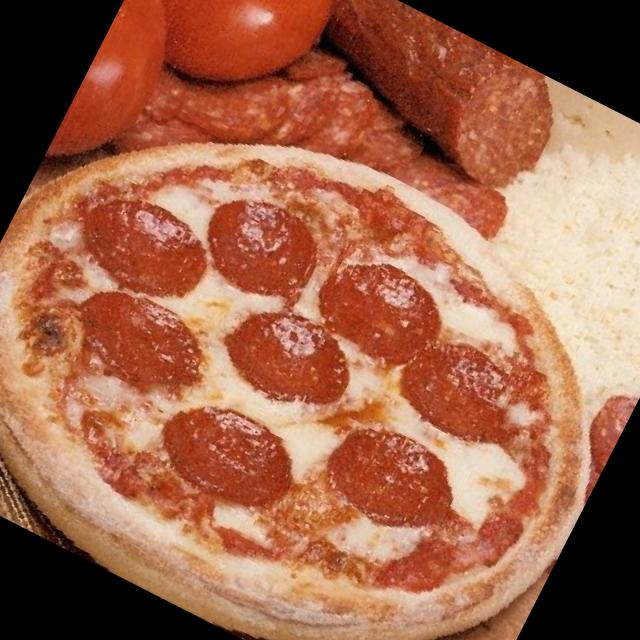pepperoni: (144, 381, 316, 530), (316, 407, 481, 552), (69, 178, 223, 312), (215, 291, 364, 428), (308, 239, 456, 374), (188, 178, 336, 312), (64, 275, 212, 404), (394, 322, 536, 453)
pizza: (0, 141, 593, 640)
